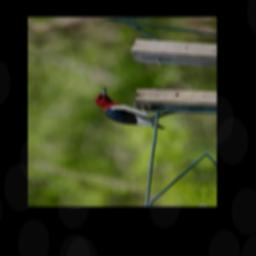Woodpecker: (93, 86, 169, 129)
